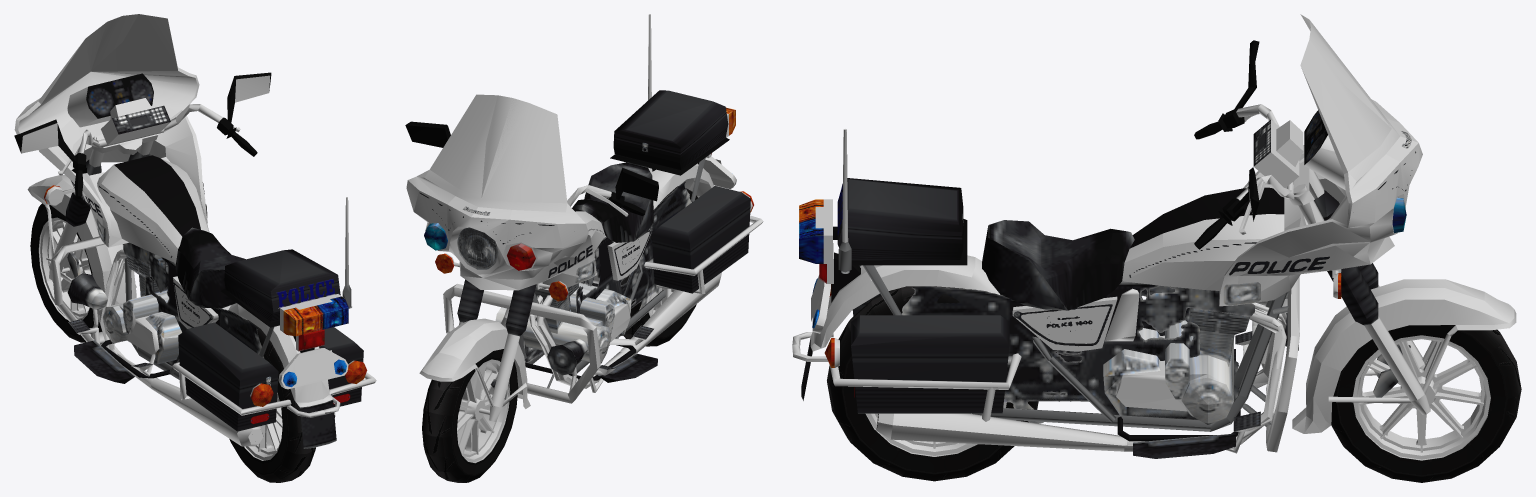
File: MC3_VP_KWZ_COP_98.glb
3 views of the same model, side by side, from view 1: azimuth 30°, elevation 25°; view 2: azimuth 150°, elevation 25°; view 3: azimuth 270°, elevation 25° (orthographic). The views are drawn at different scales.
Parts seen in each view (by area): view 1: frame_h.mesh, engine.mesh, handlebars_h.mesh, whl_4_tire_0, h_fender.mesh, Exhust_H.mesh, fork.mesh, whl_2_rim_0, whl_2_tire_0, plate_bike_H.mesh, whl_4_rim_0, Exhaust_M.mesh; view 2: frame_h.mesh, engine.mesh, whl_2_tire_0, h_fender.mesh, whl_2_rim_0, fork.mesh, handlebars_h.mesh, Exhust_H.mesh, whl_4_tire_0, Exhaust_M.mesh, Stripes.mesh; view 3: frame_h.mesh, engine.mesh, h_fender.mesh, whl_2_tire_0, whl_2_rim_0, Exhust_H.mesh, whl_4_tire_0, fork.mesh, handlebars_h.mesh, Exhaust_M.mesh, whl_4_rim_0, Stripes.mesh.
Part boxes in pixels (left/top/right/bottom): frame_h.mesh: left=14, top=14, right=376, bottom=448; engine.mesh: left=68, top=254, right=181, bottom=383; handlebars_h.mesh: left=14, top=72, right=271, bottom=199; whl_4_tire_0: left=229, top=320, right=315, bottom=482; h_fender.mesh: left=27, top=175, right=136, bottom=323; Exhust_H.mesh: left=100, top=249, right=335, bottom=446; fork.mesh: left=49, top=134, right=158, bottom=280; whl_2_rim_0: left=38, top=217, right=91, bottom=319; whl_2_tire_0: left=30, top=203, right=102, bottom=342; plate_bike_H.mesh: left=294, top=350, right=335, bottom=384; whl_4_rim_0: left=244, top=393, right=282, bottom=460; Exhaust_M.mesh: left=108, top=256, right=335, bottom=446; frame_h.mesh: left=406, top=14, right=763, bottom=403; engine.mesh: left=495, top=282, right=657, bottom=392; whl_2_tire_0: left=422, top=349, right=518, bottom=482; h_fender.mesh: left=419, top=318, right=530, bottom=408; whl_2_rim_0: left=457, top=359, right=510, bottom=463; fork.mesh: left=457, top=279, right=536, bottom=421; handlebars_h.mesh: left=405, top=121, right=658, bottom=216; Exhust_H.mesh: left=501, top=272, right=721, bottom=388; whl_4_tire_0: left=621, top=186, right=697, bottom=346; Exhaust_M.mesh: left=505, top=274, right=721, bottom=388; Stripes.mesh: left=419, top=192, right=652, bottom=275; frame_h.mesh: left=792, top=14, right=1422, bottom=452; engine.mesh: left=1103, top=303, right=1260, bottom=458; h_fender.mesh: left=1292, top=279, right=1516, bottom=433; whl_2_tire_0: left=1331, top=325, right=1521, bottom=482; whl_2_rim_0: left=1352, top=335, right=1490, bottom=460; Exhust_H.mesh: left=876, top=301, right=1286, bottom=451; whl_4_tire_0: left=827, top=286, right=1038, bottom=481; fork.mesh: left=1285, top=153, right=1430, bottom=414; handlebars_h.mesh: left=1194, top=40, right=1294, bottom=249; Exhaust_M.mesh: left=876, top=307, right=1282, bottom=445; whl_4_rim_0: left=865, top=402, right=1006, bottom=456; Stripes.mesh: left=1013, top=151, right=1415, bottom=346.
Size of the model in its own units: 1.2 by 1.57 by 2.29.
Materials: 19 (9 with a texture image).
